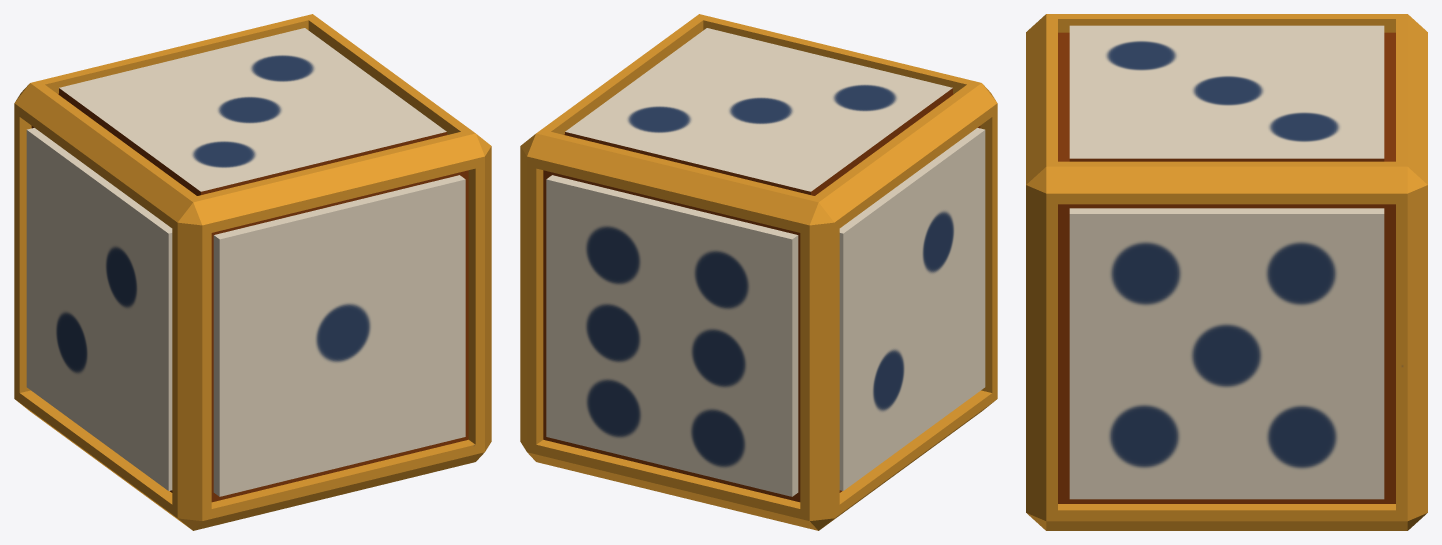
Rendered from SM_Dice.fbx.
3 renders of one model, left to right at view 1: azimuth 30°, elevation 25°; view 2: azimuth 150°, elevation 25°; view 3: azimuth 270°, elevation 25°, orthographic. The views are drawn at different scales.
Visible parts, largest first — view 1: Dice; view 2: Dice; view 3: Dice.
Boxes of the visible parts, x1,y1,x2,y2 form: Dice: [14, 14, 491, 530]; Dice: [520, 14, 997, 530]; Dice: [1026, 14, 1427, 530].
Size of the model in its own units: 1 by 1 by 1.
Materials: 1 (1 with a texture image).
